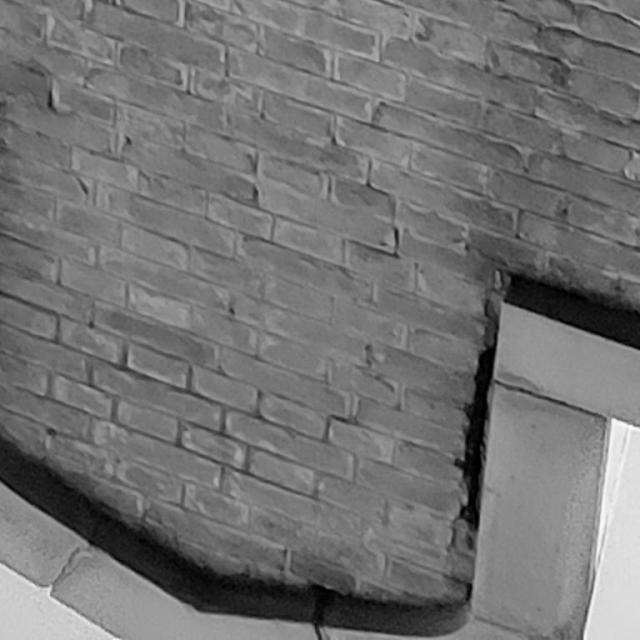crack: (454, 299, 498, 530)
